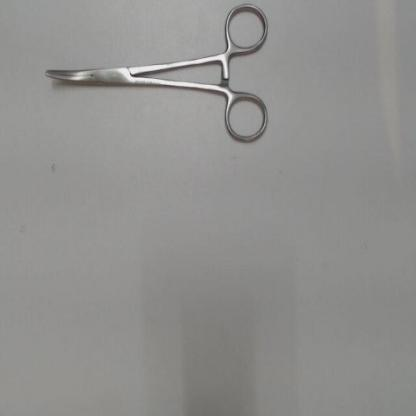Crile Artery Forceps: (42, 2, 278, 152)
